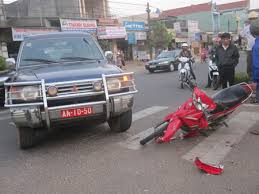plate: (60, 106, 94, 118)
